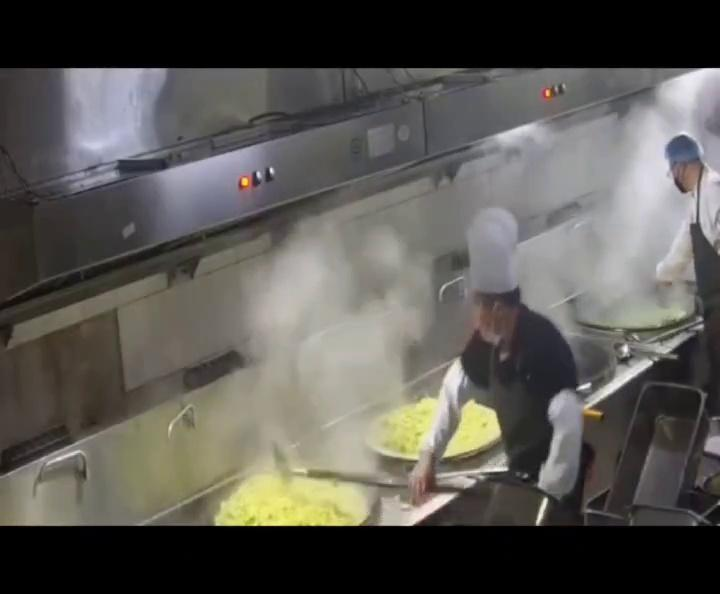mask: (468, 302, 510, 346)
